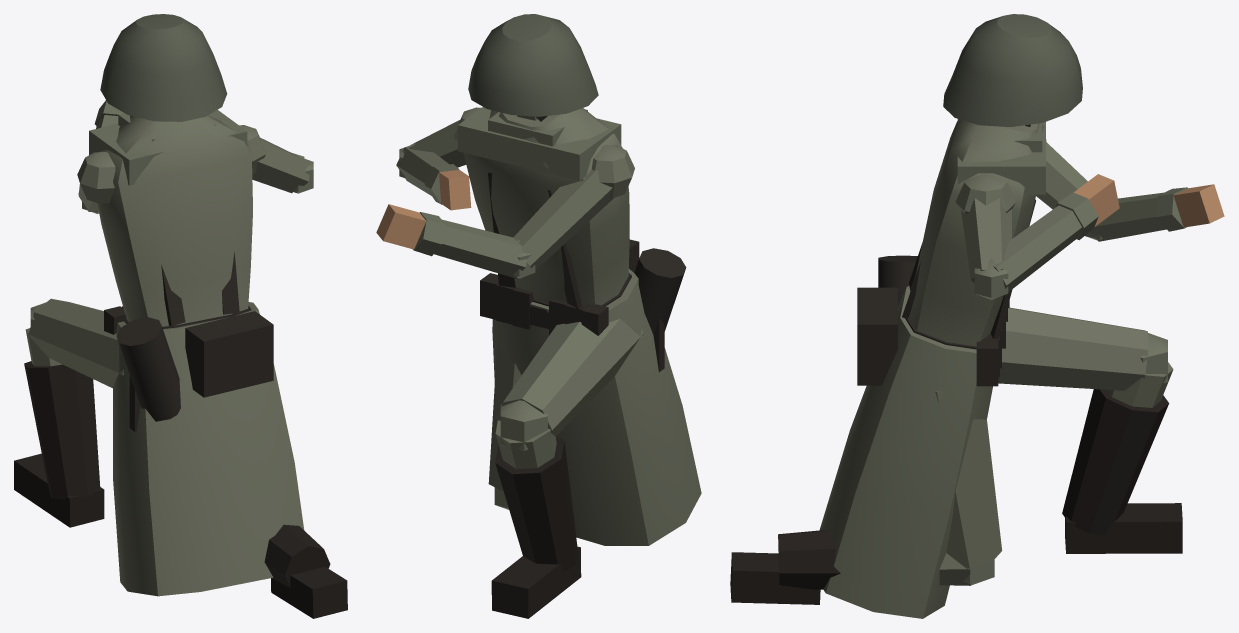
Rendered from soldier_de_coat_kneel_fire.glb.
3 renders of one model, left to right at view 1: azimuth 30°, elevation 25°; view 2: azimuth 150°, elevation 25°; view 3: azimuth 270°, elevation 25°, orthographic. The views are drawn at different scales.
Visible parts, largest first — view 1: soldier_de_coat_kneel_fire; view 2: soldier_de_coat_kneel_fire; view 3: soldier_de_coat_kneel_fire.
Part boxes in pixels (x1,y1,x2,y2): soldier_de_coat_kneel_fire: [14, 14, 347, 618]; soldier_de_coat_kneel_fire: [376, 14, 701, 618]; soldier_de_coat_kneel_fire: [730, 14, 1224, 618].
Size of the model in its own units: 0.6563 by 1.39 by 1.1.
